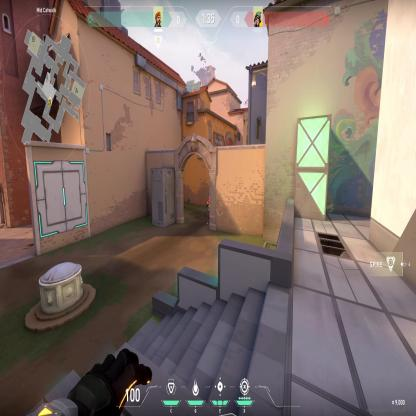enemy: (206, 194, 210, 226)
